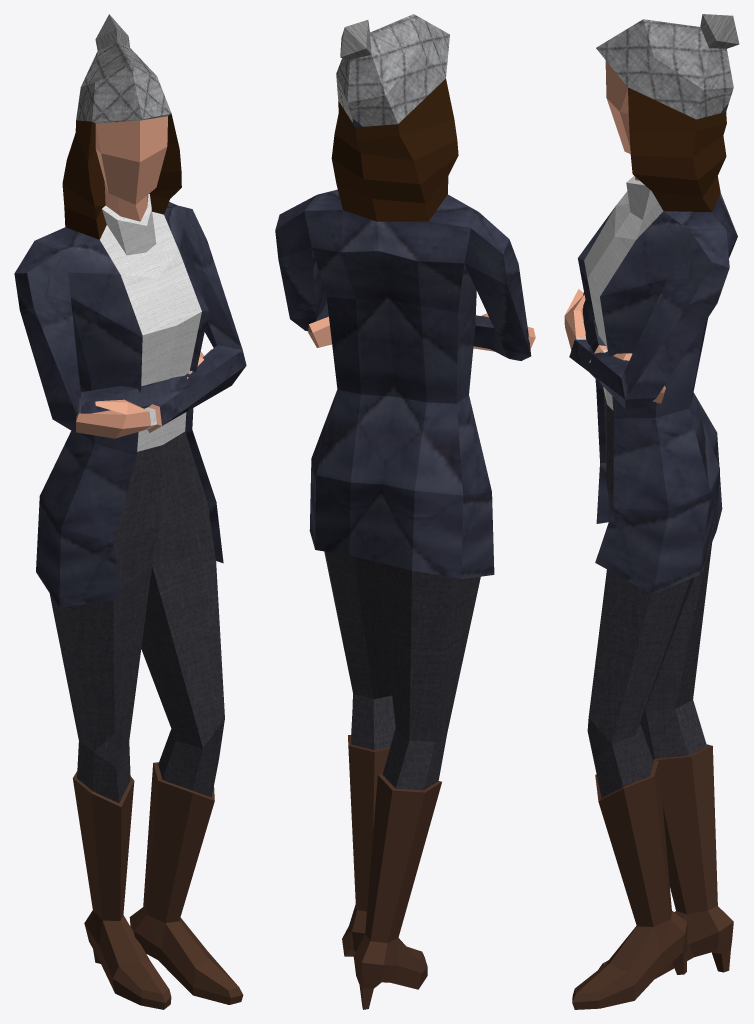
File: AutumnWomanB.009.glb
3 views of the same model, side by side, from view 1: azimuth 30°, elevation 25°; view 2: azimuth 150°, elevation 25°; view 3: azimuth 270°, elevation 25° (orthographic). The views are drawn at different scales.
Visible parts, largest first — view 1: AutumnWomanB.009; view 2: AutumnWomanB.009; view 3: AutumnWomanB.009.
Part boxes in pixels (x1,y1,x2,y2): AutumnWomanB.009: [14, 14, 246, 1009]; AutumnWomanB.009: [275, 14, 535, 1009]; AutumnWomanB.009: [564, 14, 739, 1009].
Bounding box in the file's own units: 0.4118 × 1.74 × 0.2857.
Materials: 1 (1 with a texture image).
